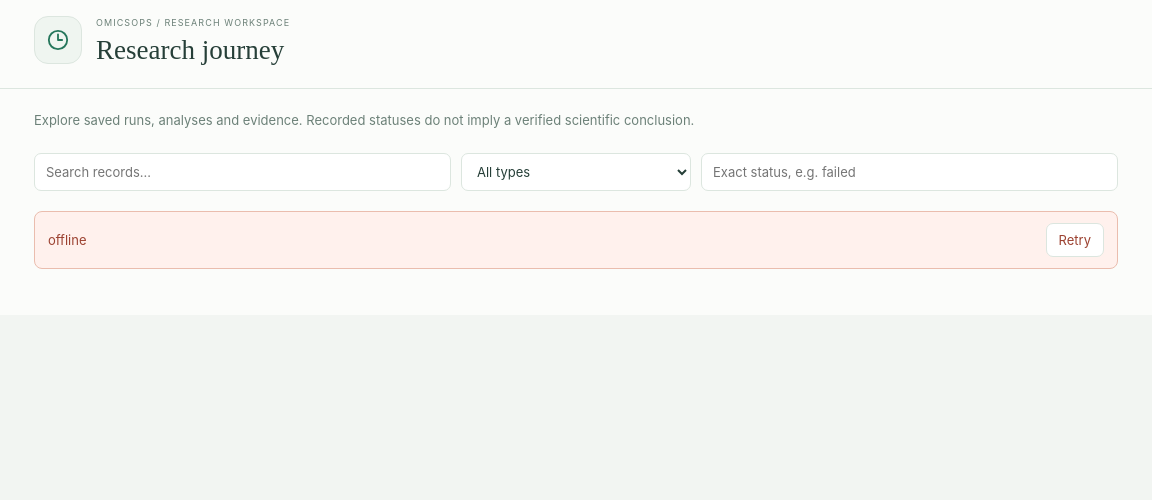
Test case: research journey › loads real entries, filters, pages and retries a failed request
Expected: the message shows "offline", [48,232,86,248]
Click the button "Retry": [1075, 240] box [1046,223,1104,257]
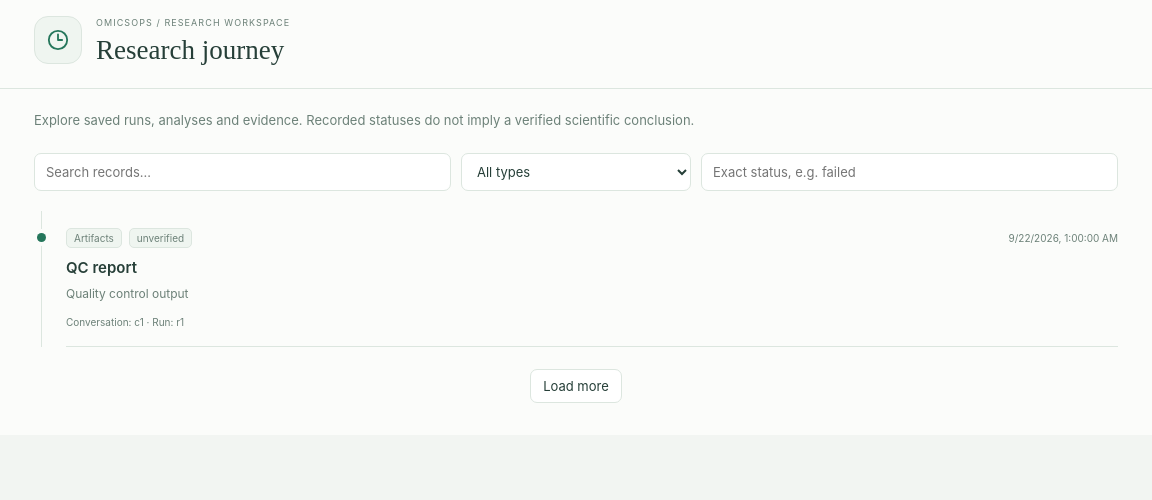
Now the button "QC report Quality control output" is shown, box [66,248,1118,313]
Click the button "Load more": [576, 386] box [530,369,622,403]
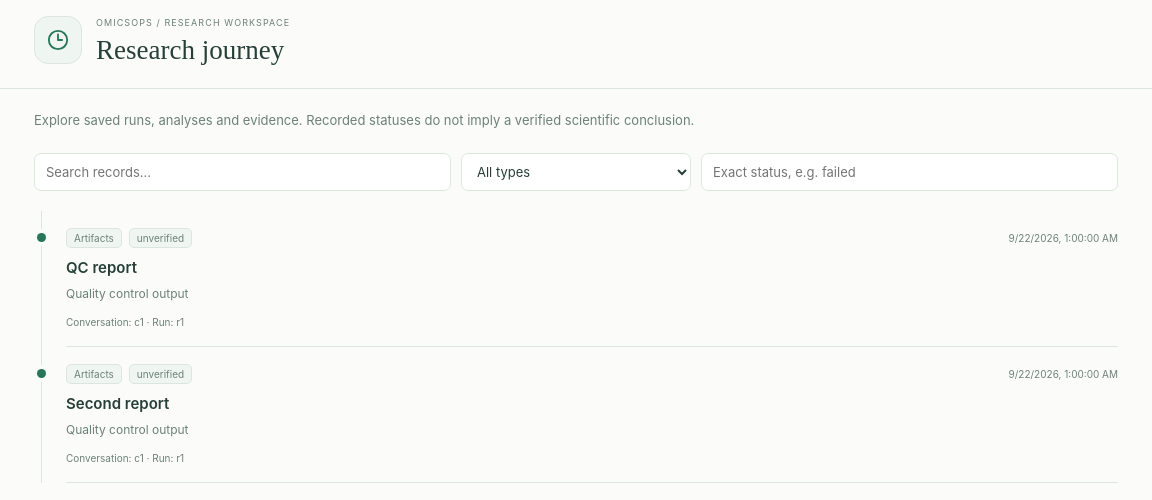
Now the text "Second report" is shown, box [66,394,169,413]
In the search field named "Search journey": [242, 172] box [34,153,451,191], type "none"
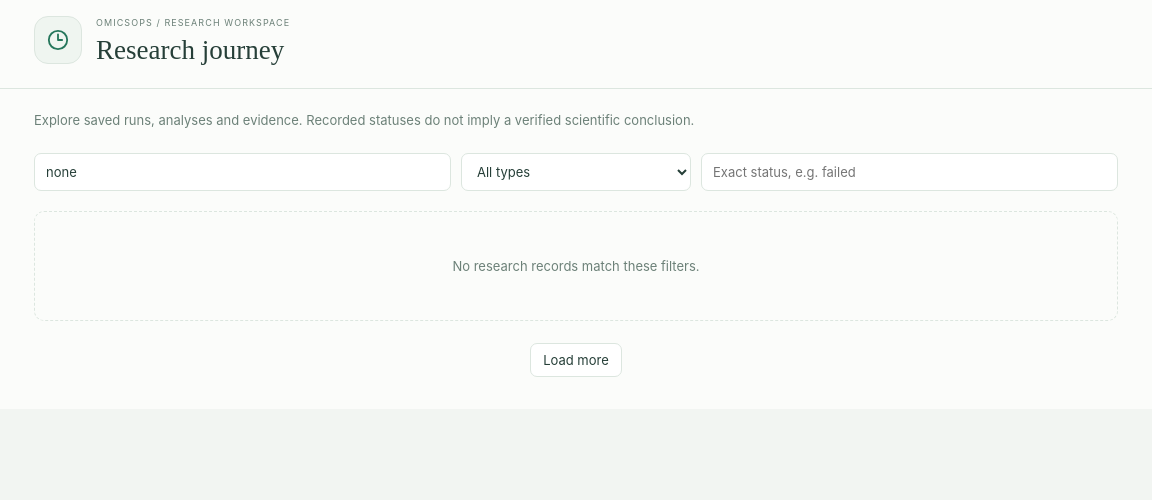
Now the text "No research records match these filters." is shown, box [34,211,1118,321]
Now the button "Second report" is gone
